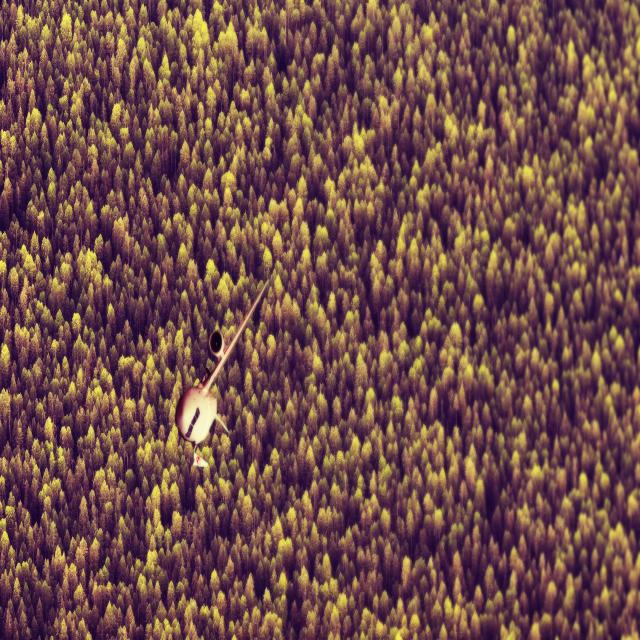airplane: (174, 276, 270, 468)
